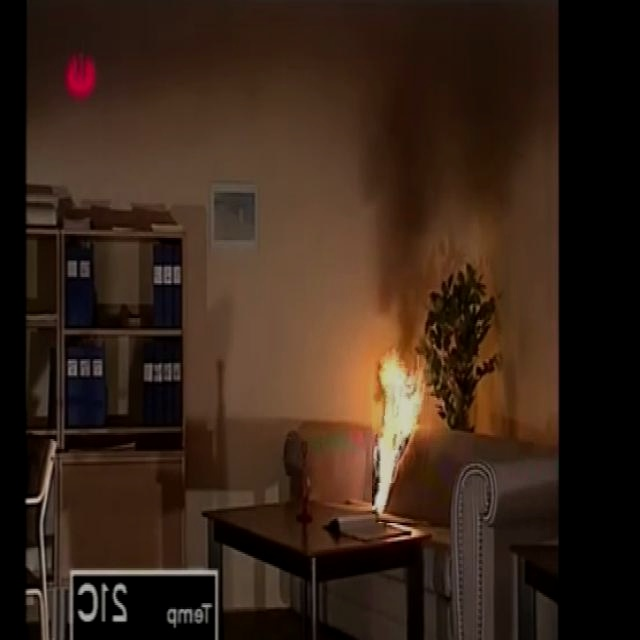fire: (352, 352, 428, 513)
